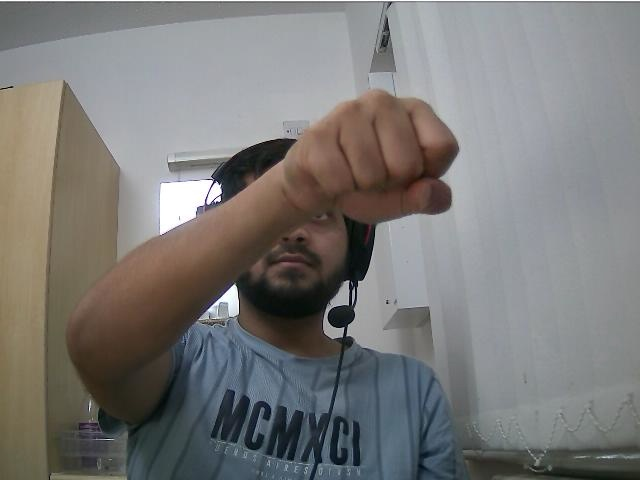hold: (285, 85, 462, 226)
